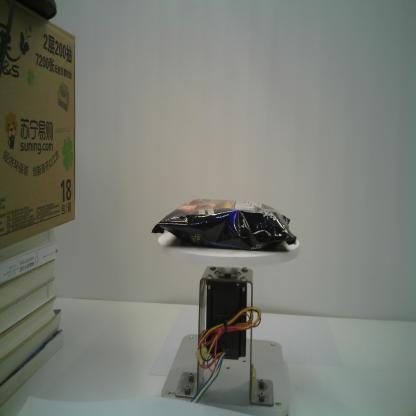Instant Noodles: (152, 197, 296, 250)
